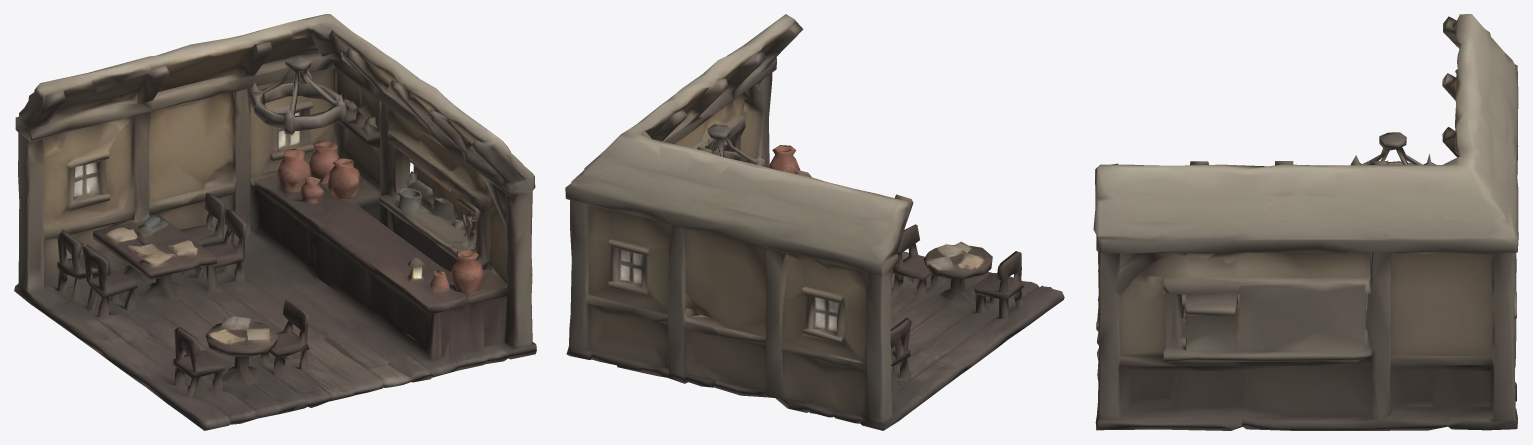
The model's file is restaurant_interior.glb.
3 views of the same model, side by side, from view 1: azimuth 30°, elevation 25°; view 2: azimuth 150°, elevation 25°; view 3: azimuth 270°, elevation 25° (orthographic). The views are drawn at different scales.
Parts seen in each view (by area): view 1: tripo_node_a7bb1463-6d8e-408b-8f77-d58f7379d284; view 2: tripo_node_a7bb1463-6d8e-408b-8f77-d58f7379d284; view 3: tripo_node_a7bb1463-6d8e-408b-8f77-d58f7379d284.
Part boxes in pixels (x1=…): tripo_node_a7bb1463-6d8e-408b-8f77-d58f7379d284: x1=14, y1=14, x2=536, y2=430; tripo_node_a7bb1463-6d8e-408b-8f77-d58f7379d284: x1=565, y1=14, x2=1064, y2=430; tripo_node_a7bb1463-6d8e-408b-8f77-d58f7379d284: x1=1093, y1=14, x2=1518, y2=430.
Bounding box in the file's own units: 1 × 0.6331 × 0.9983.
Materials: 1 (1 with a texture image).
